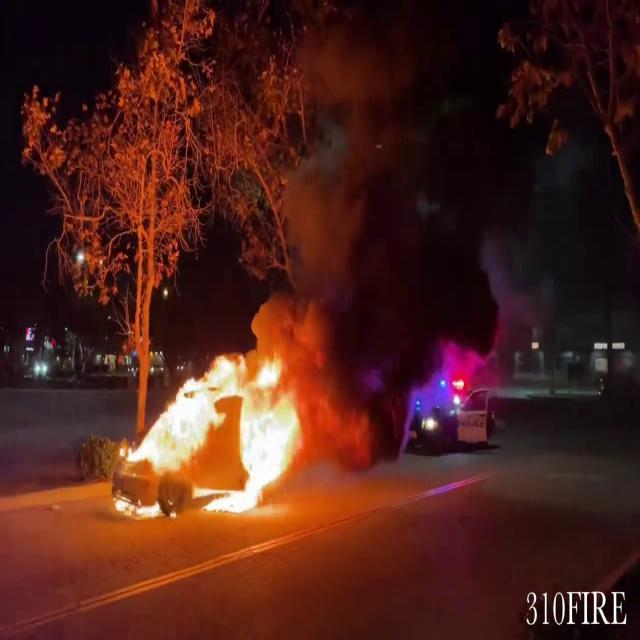Fire: (108, 342, 315, 519)
Smoke: (246, 0, 449, 352)
